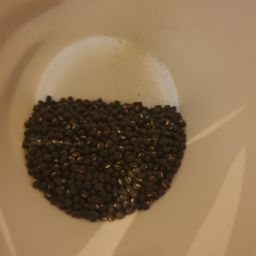Black Gram(urad daal): (26, 93, 195, 230)
